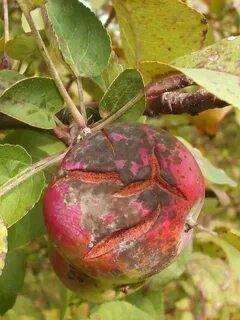Apple: (42, 122, 204, 286)
